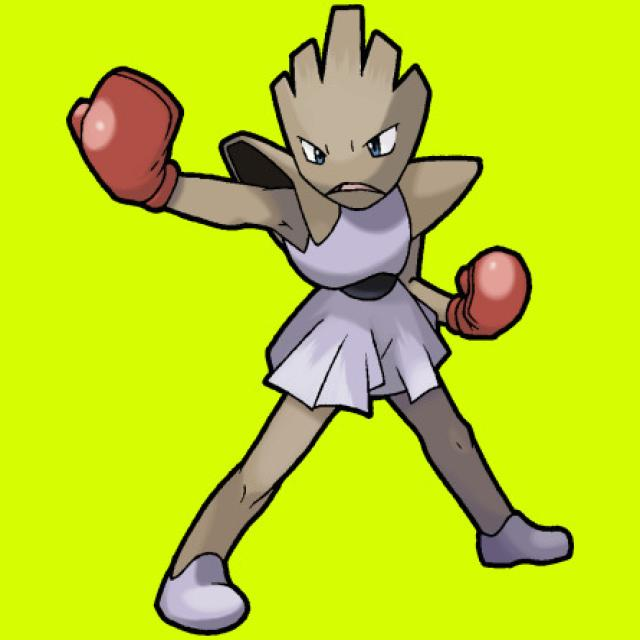Hitmonchan: (187, 24, 534, 564)
